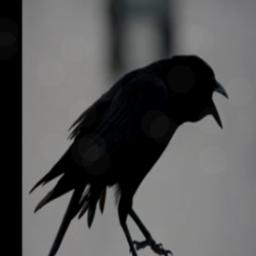Crow: (29, 52, 229, 256)
